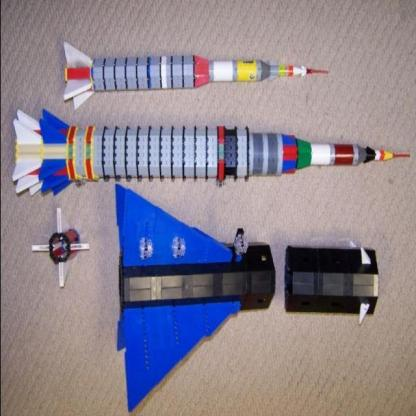MIL_TBM: (11, 112, 377, 196), (63, 38, 270, 108)
